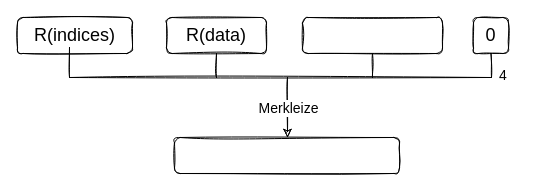
Image size: 551x191. Some labels were removed from this diagram. The shapes that lost their labels are listed below. From the top down, each one's centre as x and y in pixels, then its label:
the point at 372,35: R(signature)
the point at 287,155: R(indexed_attestation)
